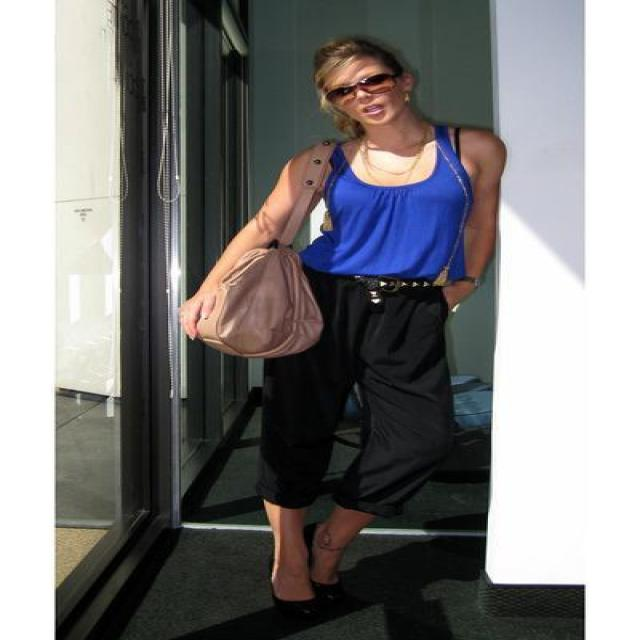bag: (179, 243, 322, 361)
pants: (250, 294, 467, 512)
shirt: (299, 122, 472, 284)
shoe: (267, 582, 355, 621)
sunglass: (323, 86, 355, 102)
